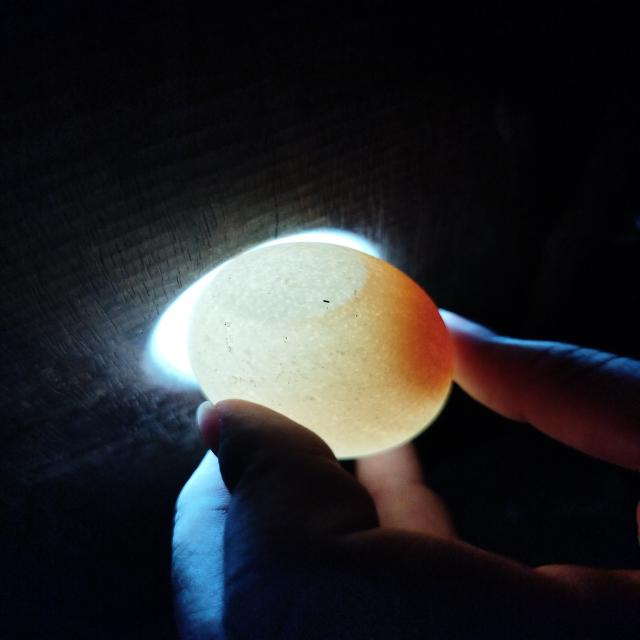Camara de Ar: (213, 243, 366, 322), (390, 267, 455, 393)
